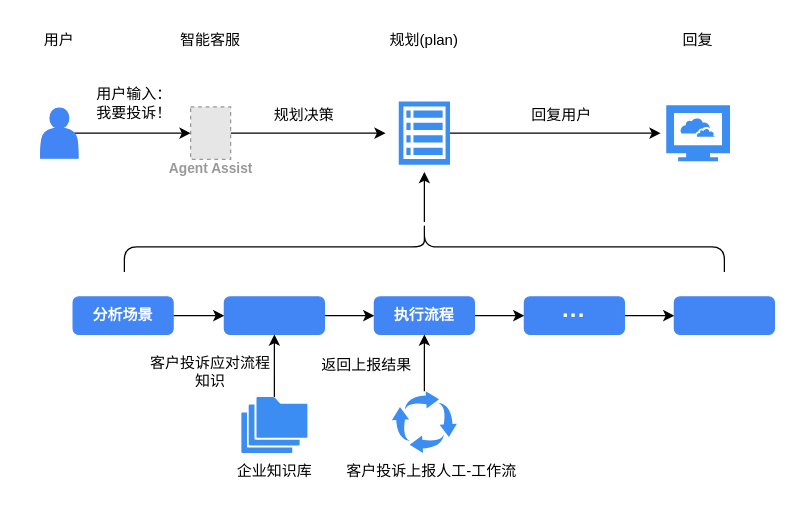
The diagram is 796 pixels wide and 511 high, and some of its shapes have lost their labels. Grey dashed boxes stand in for pictures. The centre of each missing label's shape, as x and y in pixels:
"得到结果" goes at (723,315).
"查询对策" goes at (273,315).
